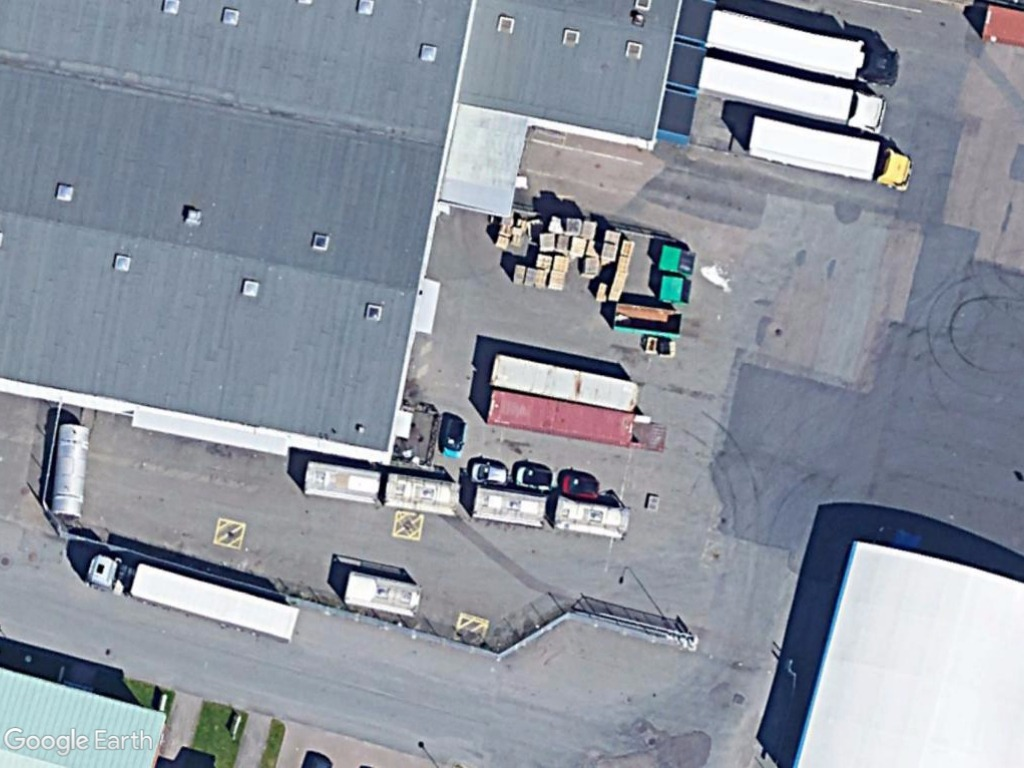longvehicle: (81, 547, 308, 651), (688, 53, 892, 140), (701, 5, 907, 88), (740, 108, 916, 194)
